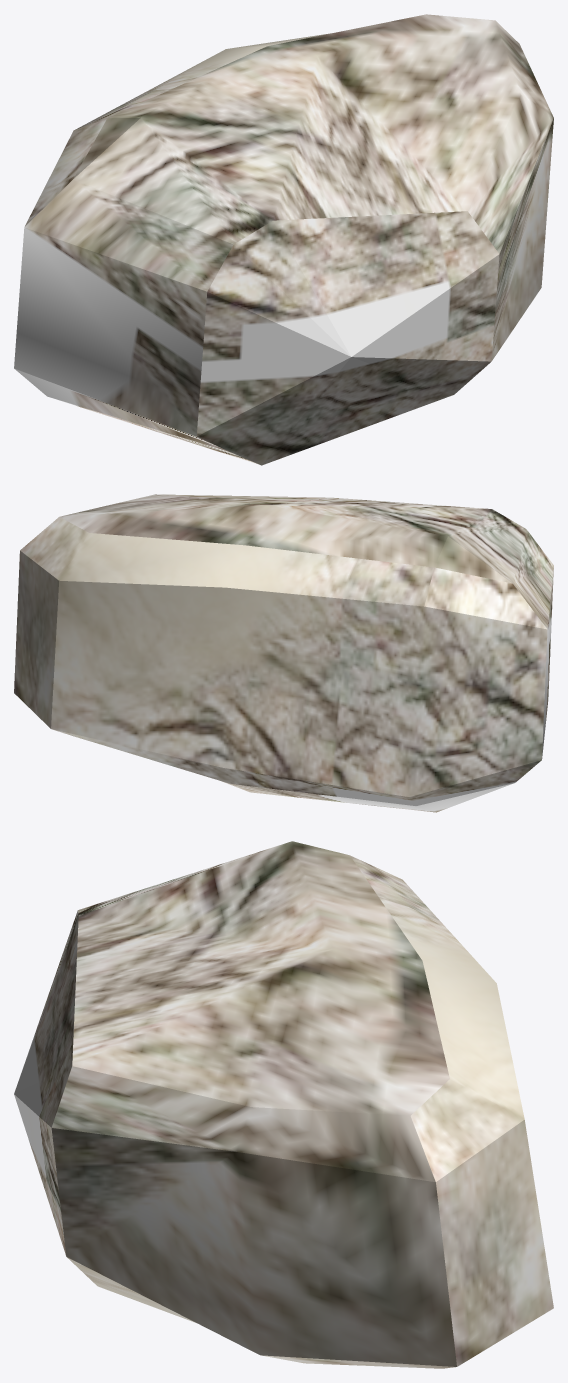
Rendered from TDSten4.fbx.
3 views of the same model, one above another, from view 1: azimuth 30°, elevation 25°; view 2: azimuth 150°, elevation 25°; view 3: azimuth 270°, elevation 25° (orthographic). The views are drawn at different scales.
Parts seen in each view (by area): view 1: pCube67; view 2: pCube67; view 3: pCube67.
Part boxes in pixels (x1,y1,x2,y2): pCube67: [14, 14, 553, 465]; pCube67: [14, 494, 553, 812]; pCube67: [14, 841, 553, 1368].
Bounding box in the file's own units: 33.72 × 18.62 × 24.3.
